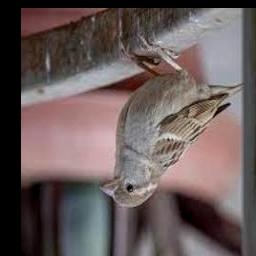Sparrow: (98, 36, 244, 208)
